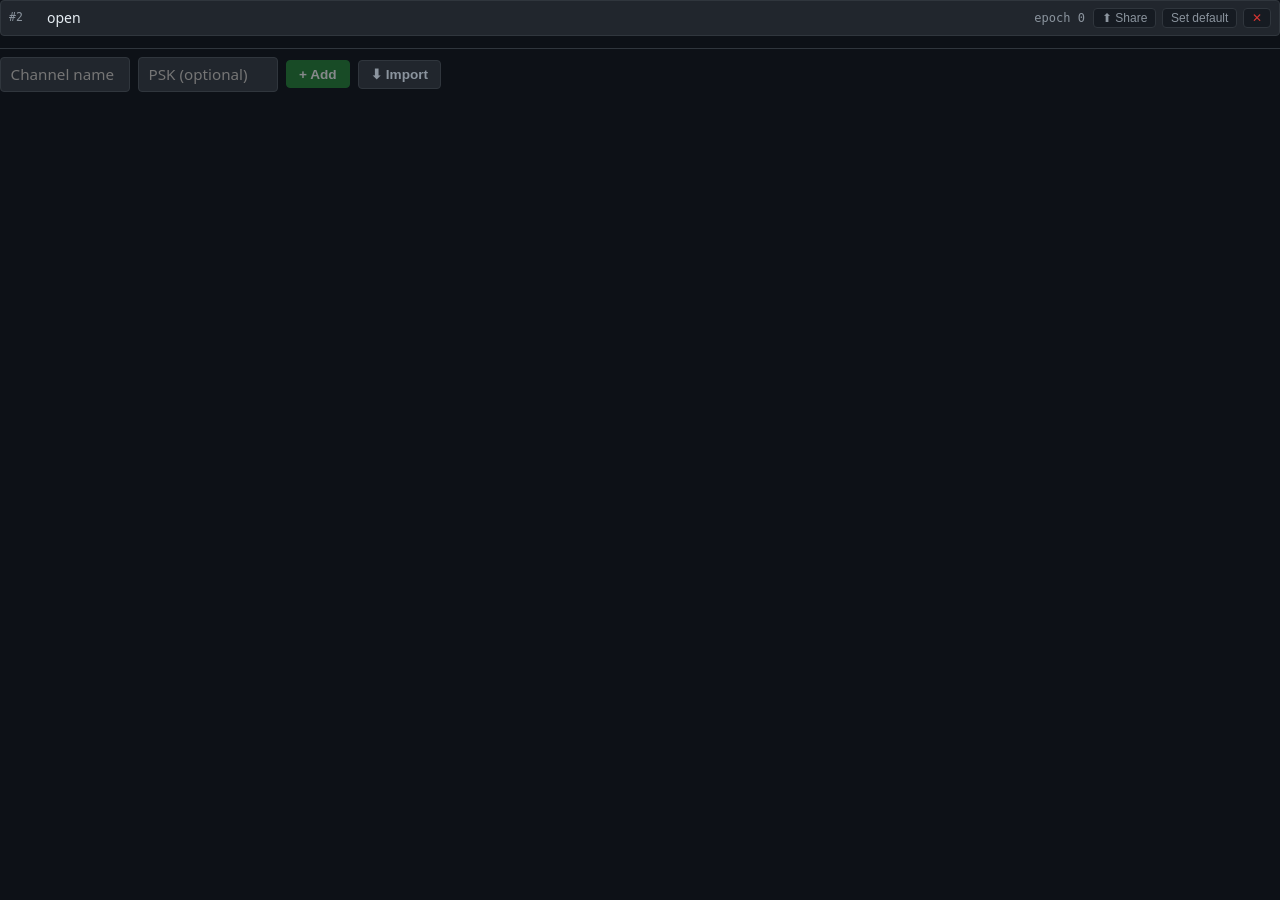
Test: ChannelManager confirm-action dialog › exposes dialog role/aria-modal and closes on Escape
The width and height of the screenshot is (1280, 900).
Click the button titled "Set as default channel".
click(1200, 18)  # box [1162, 8, 1237, 28]
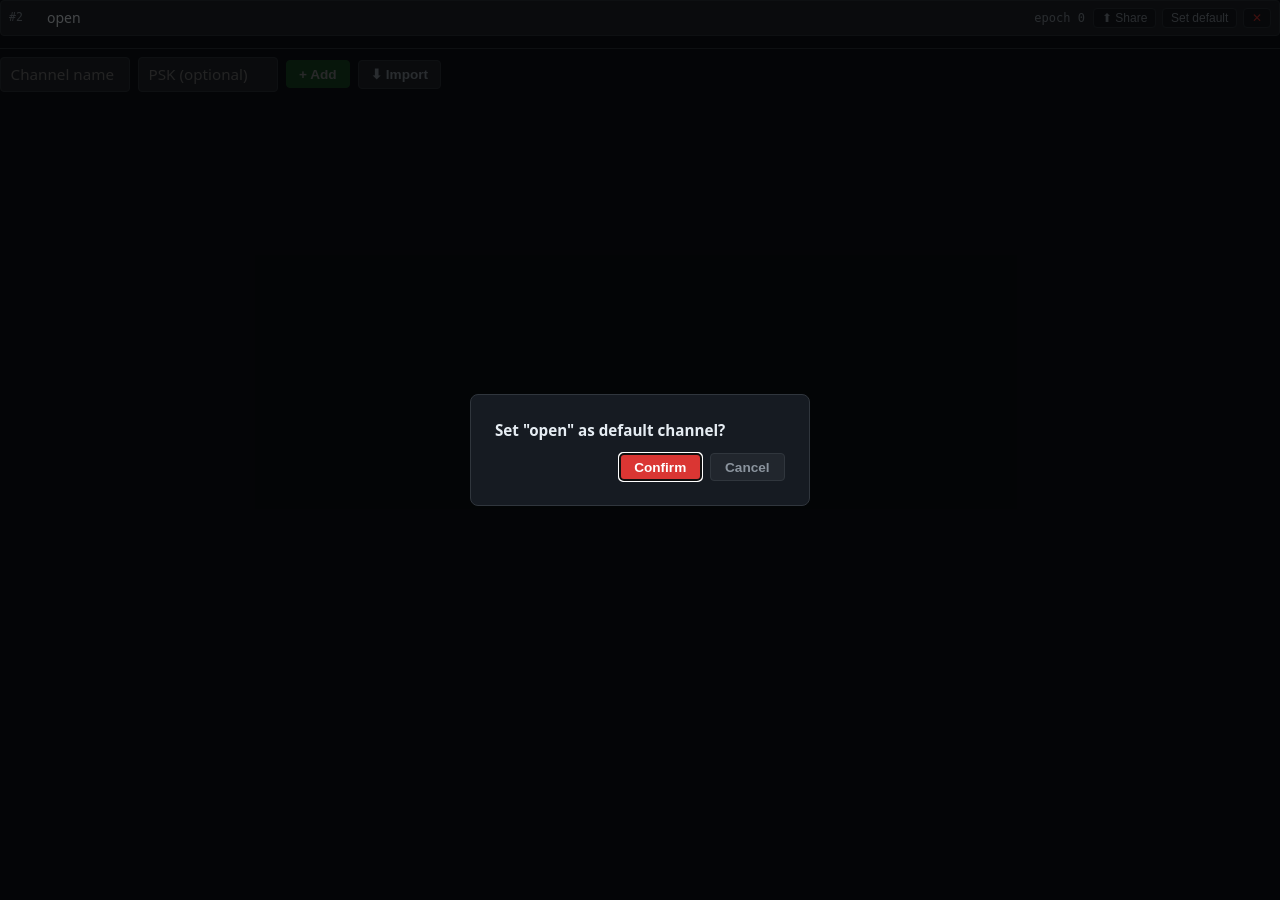
Press Escape in the dialog "Set \"open\" as default channel?"
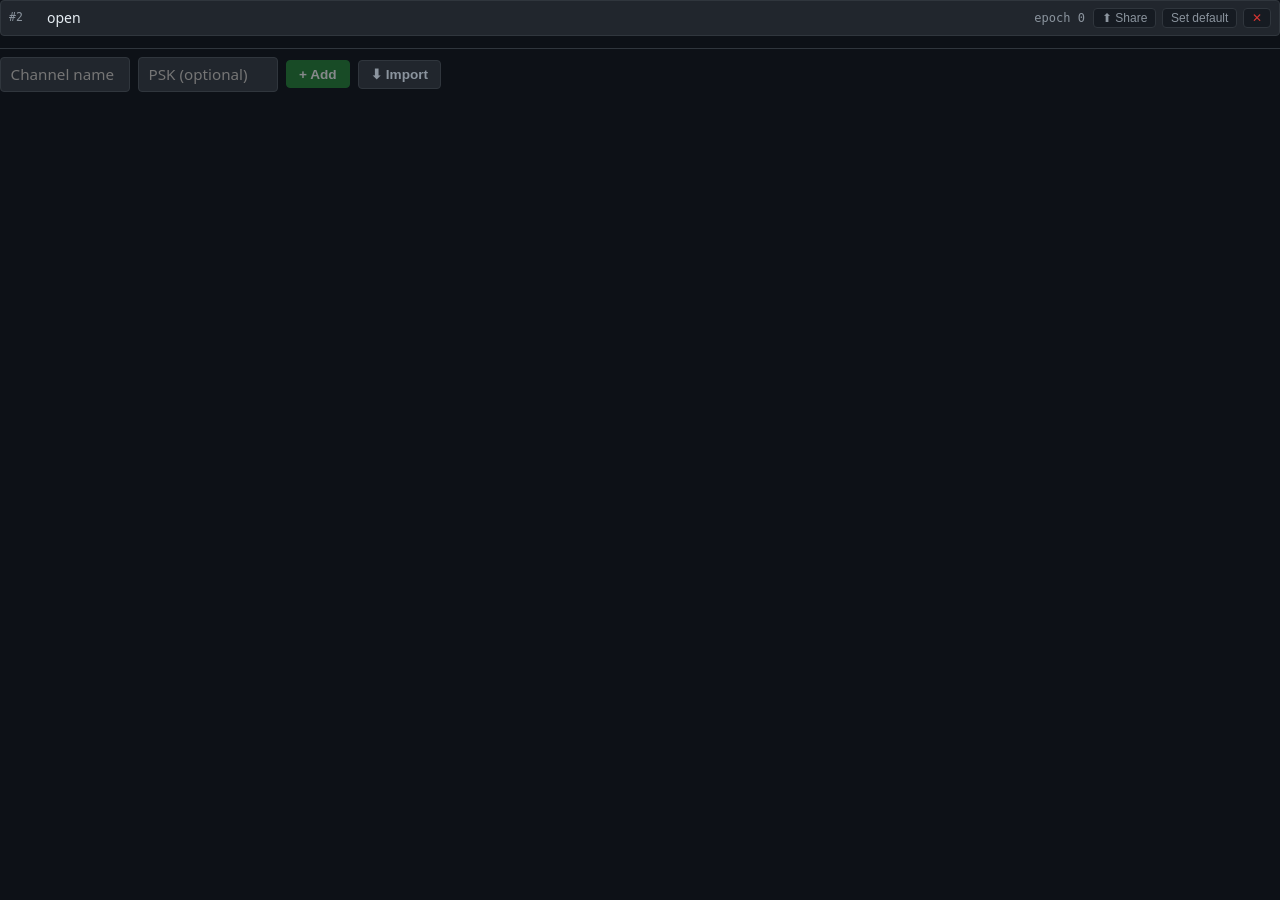
Check: the text "Set \"open\" as default channel?" is gone
